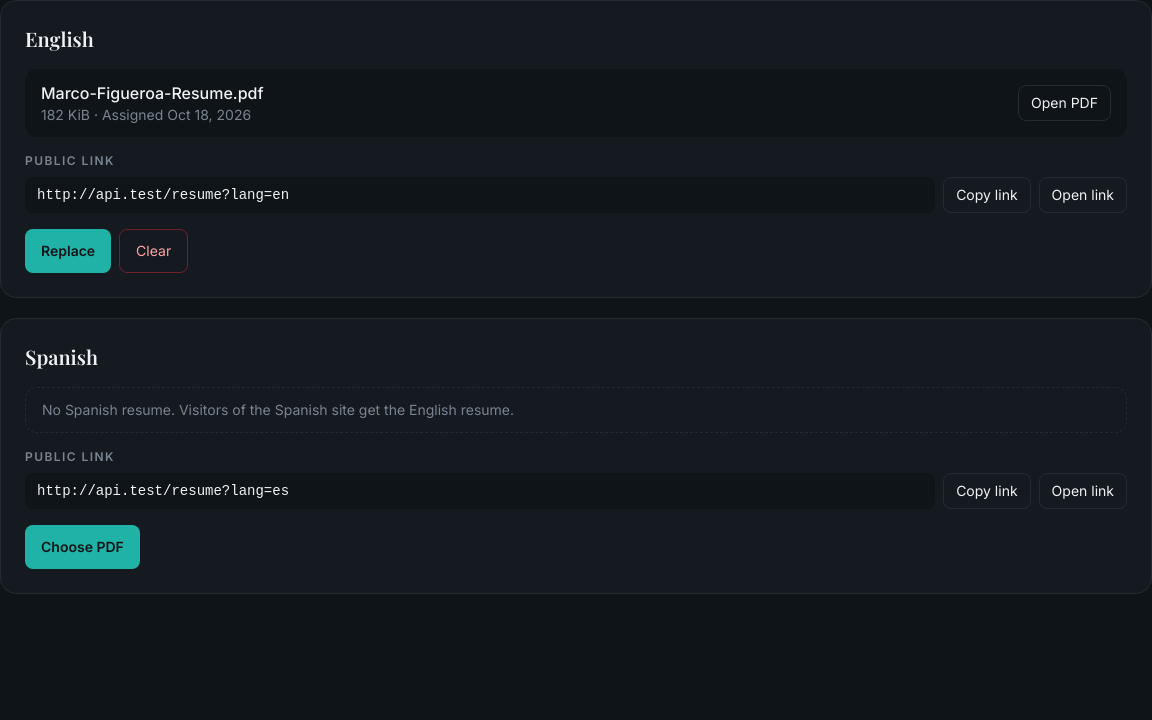
it: ResumeManager › clearing › warns that clearing English stops the public download
This screenshot has width=1152, height=720.
Click the button "Clear". click: (154, 251)
box: x1=119 y1=229 x2=188 y2=273
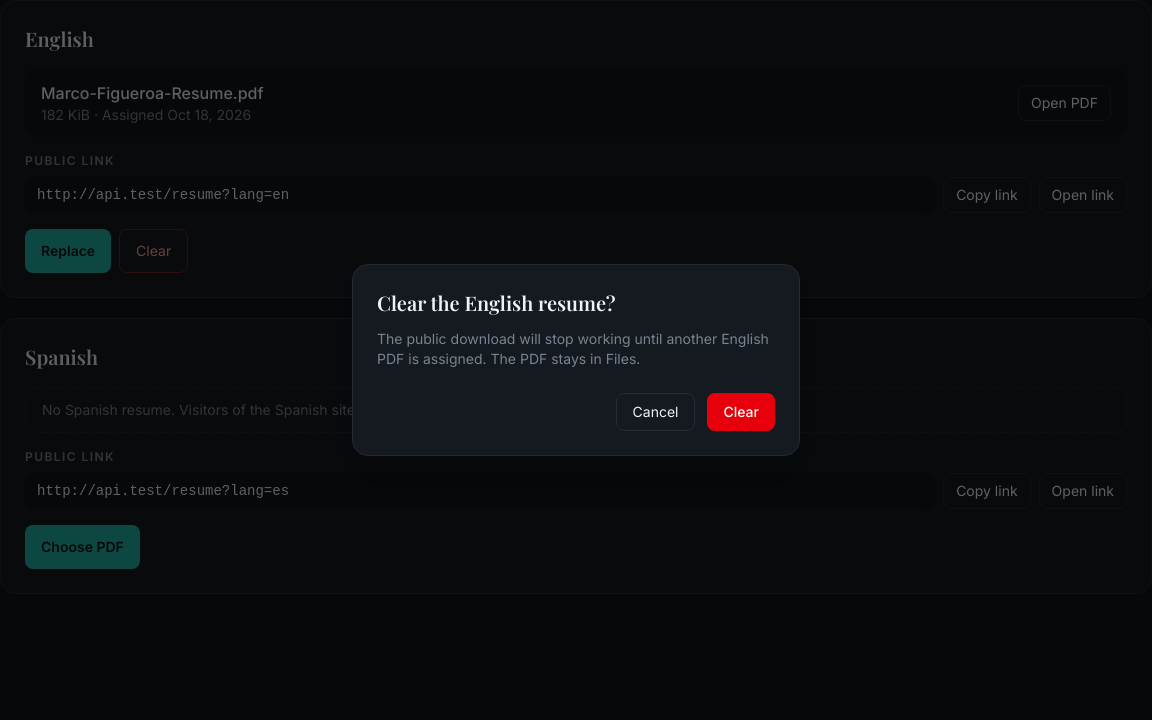
Result: the dialog "Clear the English resume?" shows "The public download will stop working until another English PDF is assigned." at x1=377 y1=330 x2=769 y2=367
